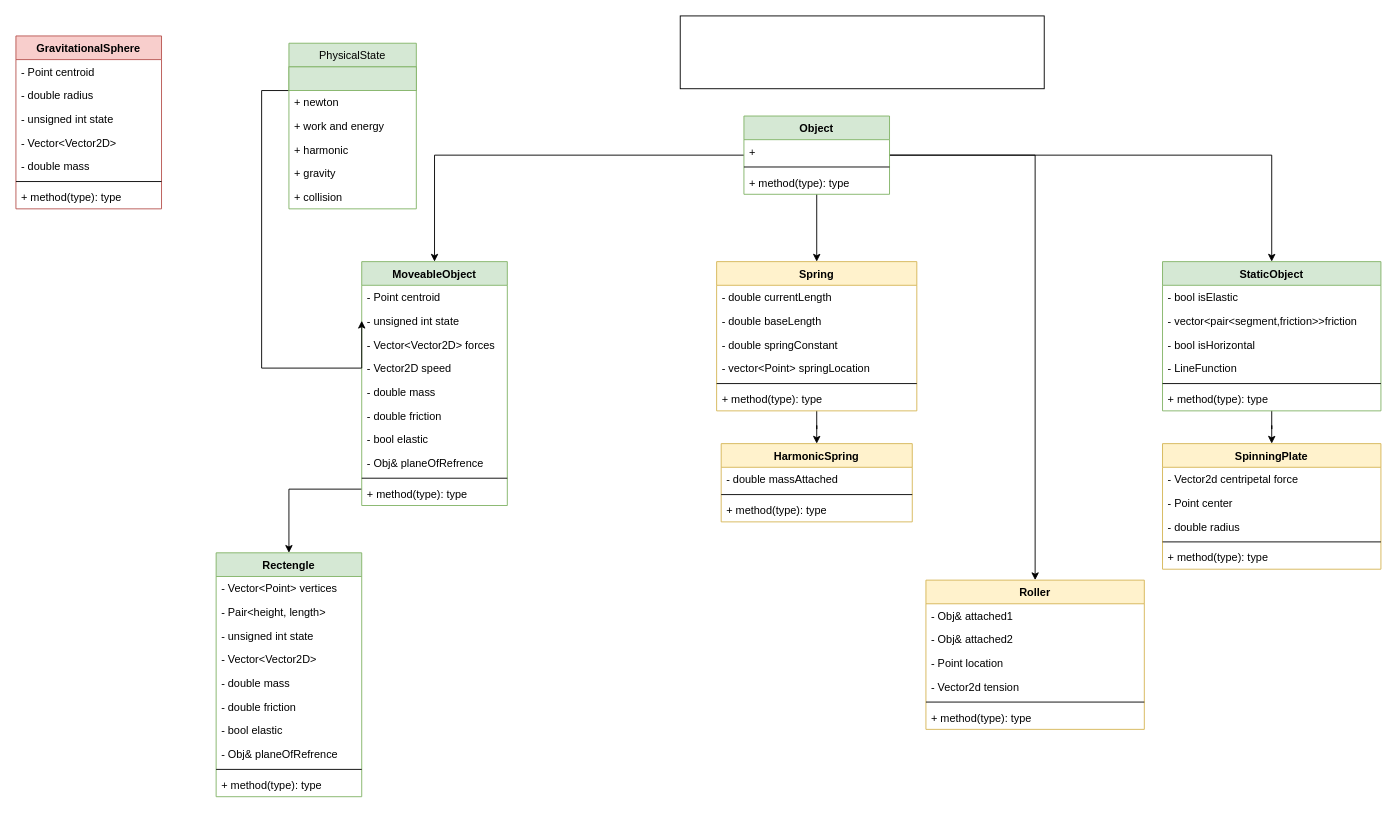
This 1397x815 diagram has some shape labels left out. The centre of each missing label's shape, as x and y in pixels:
"+ kinematic" goes at (352,78).
"Notes: At least one static object in a level" goes at (861,52).
